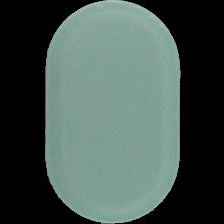60687-161: (0, 0, 224, 224)
